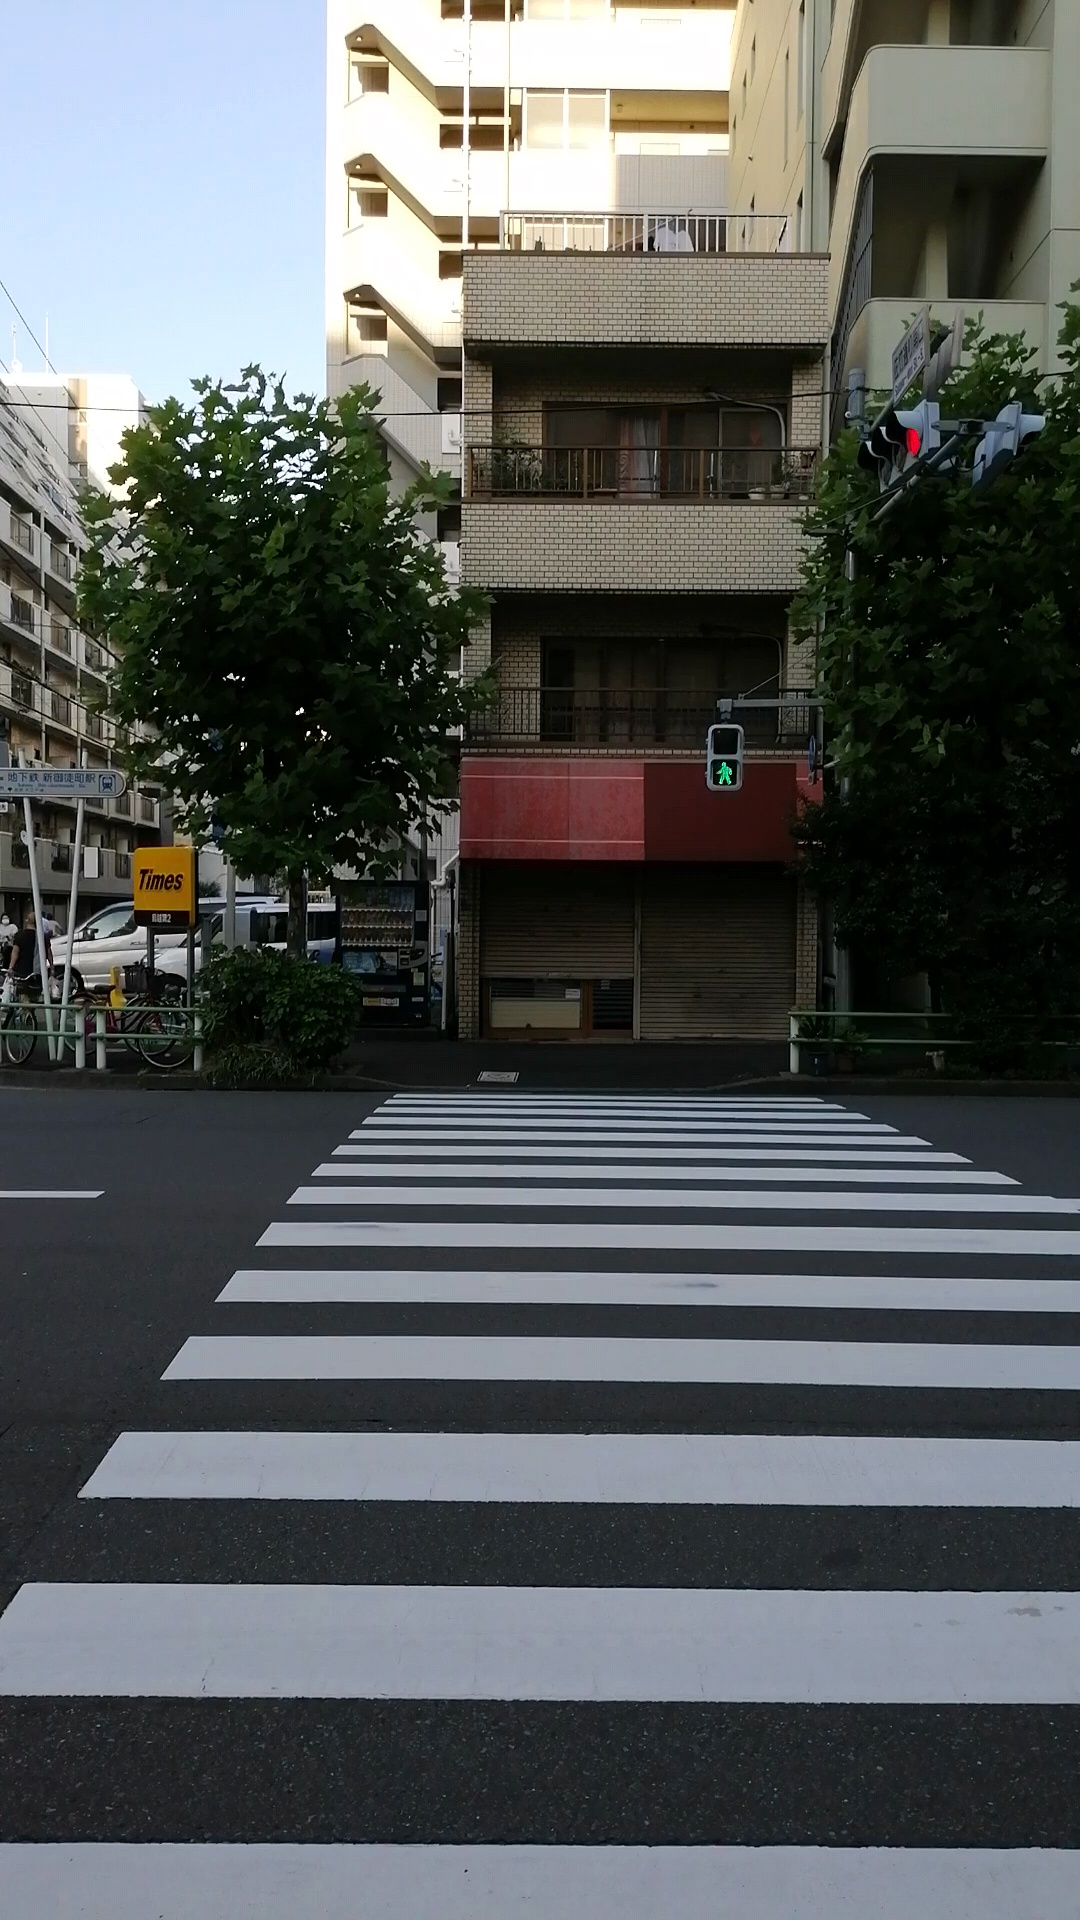green: (705, 724, 742, 793)
